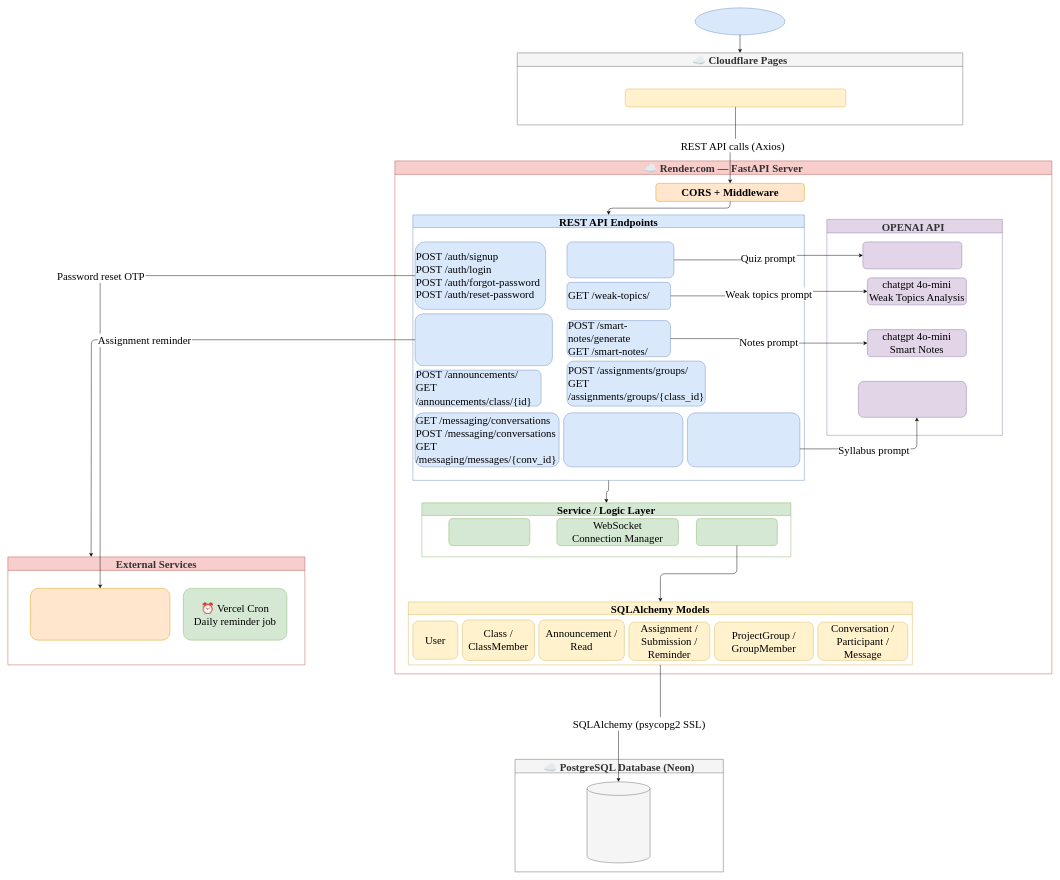
The diagram is 1060 pixels wide and 880 high, and some of its shapes have lost their labels. The shapes that lost their labels are listed below. From the top down, each one's centre as x and y in pixels, then its label:
point 740,21: 👤 User (Browser)
point 735,97: React App (Vite / Next.js)
point 620,259: GET/POST /quiz/ GET /quiz/attempts POST /quiz/submit
point 912,255: chatgpt 4o-mini Quiz Generation
point 483,339: POST /assignments/ POST /assignments/submit DELETE /assignments/{id}
point 912,399: chatgpt 4o-mini Study Plan + Syllabus Parse
point 623,439: POST /classroom/create POST /classroom/join GET /classroom/my-classes
point 743,439: POST /syllabus/upload GET /syllabus/
point 489,532: JWT Auth Dep Injection
point 736,532: DB Session Dep Injection
point 100,614: 📧 SMTP Email (Password Reset + Assignment Reminders)
point 618,822: 🗄️ 18 Tables
